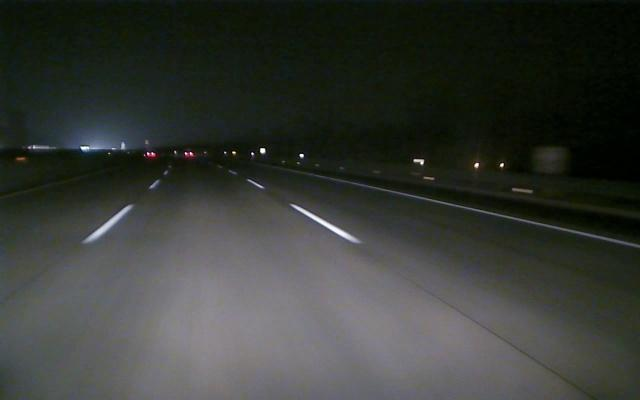lane: (312, 175, 638, 249), (250, 180, 364, 242), (82, 179, 160, 243)
